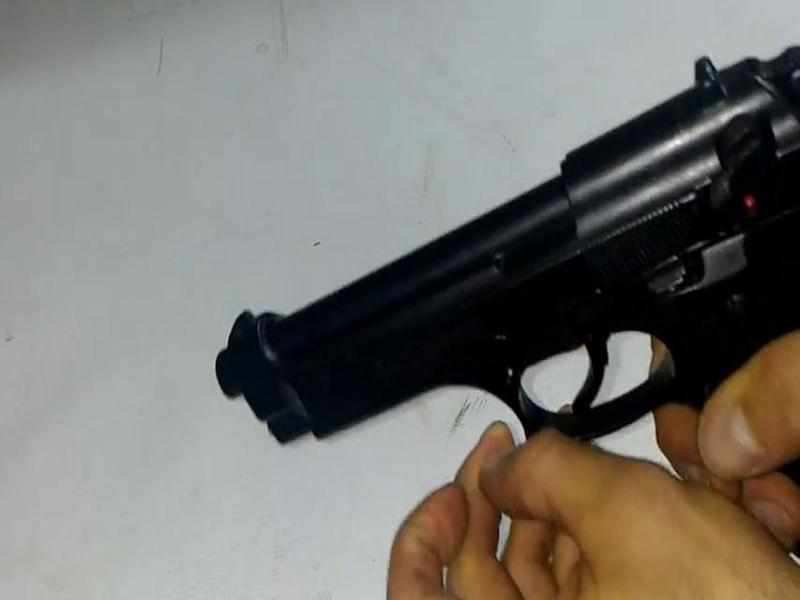Pistola: (207, 32, 800, 484)
